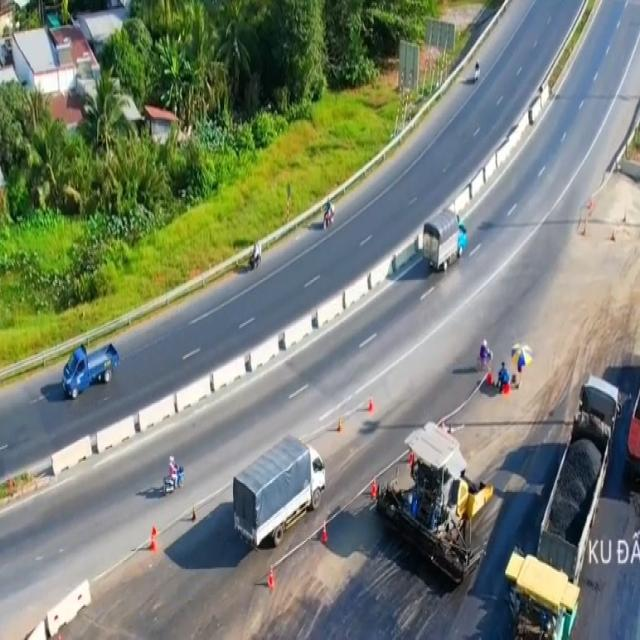motorbike: (160, 451, 184, 500), (322, 199, 334, 231), (249, 239, 262, 268)
truck: (233, 431, 328, 549), (59, 342, 119, 406), (421, 207, 467, 270)
